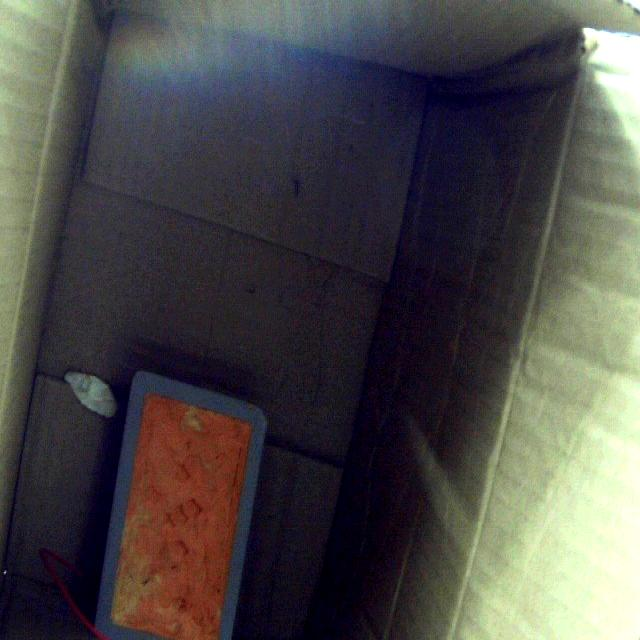block: (92, 369, 269, 640)
